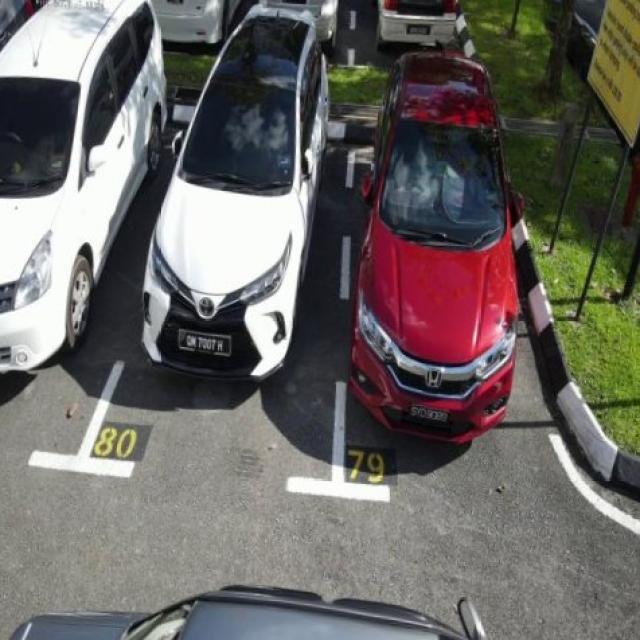Legalparking: (0, 0, 586, 503)
illegalparking: (1, 528, 616, 640)
